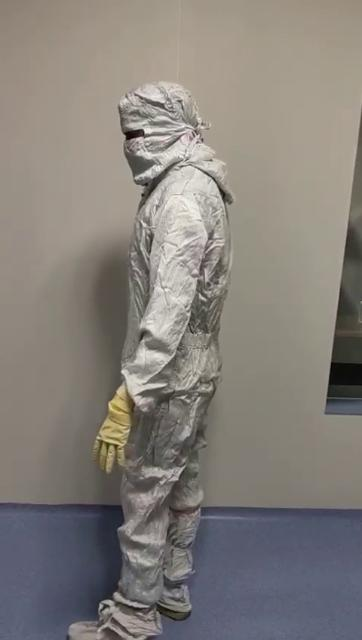boot_not_secured: (68, 556, 156, 640)
gloves_not_fitted_securely: (88, 367, 158, 487)
headgear_not_secured_backside: (104, 74, 238, 210)
